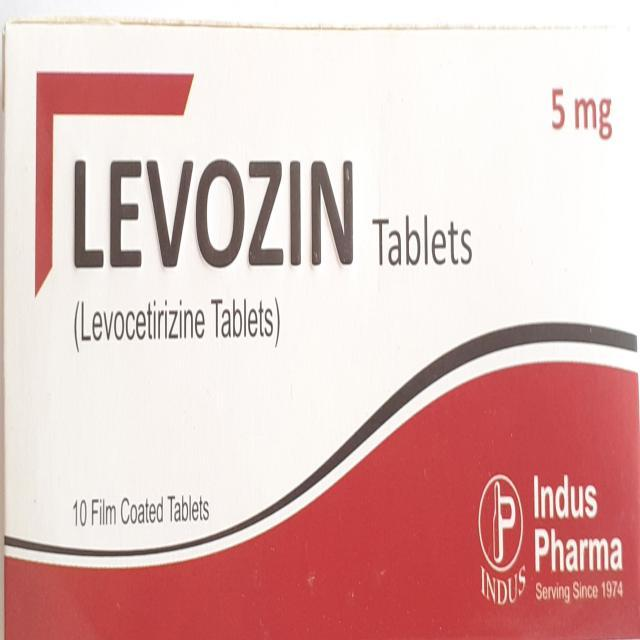drug-name: (64, 157, 360, 267)
